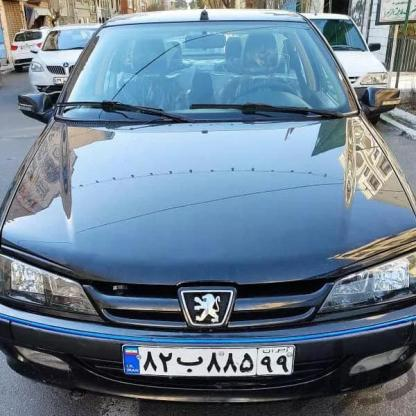Car: (0, 1, 416, 416), (272, 0, 416, 121), (21, 30, 114, 98), (9, 0, 49, 62)
